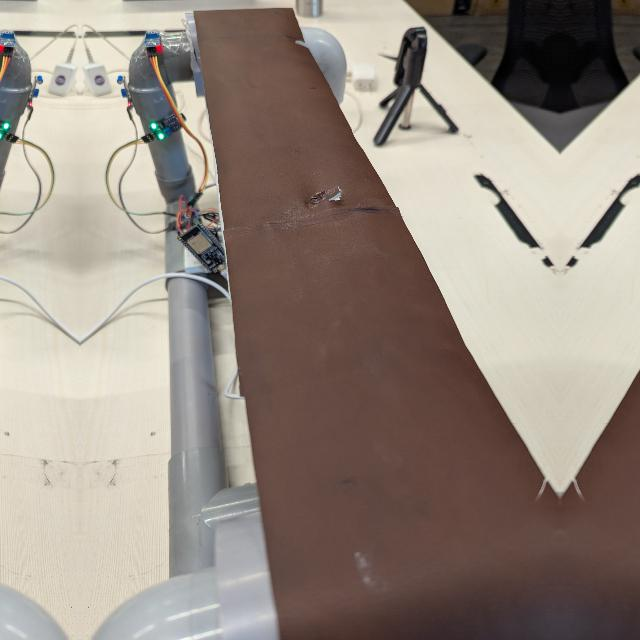joint_damage: (300, 190, 361, 211)
